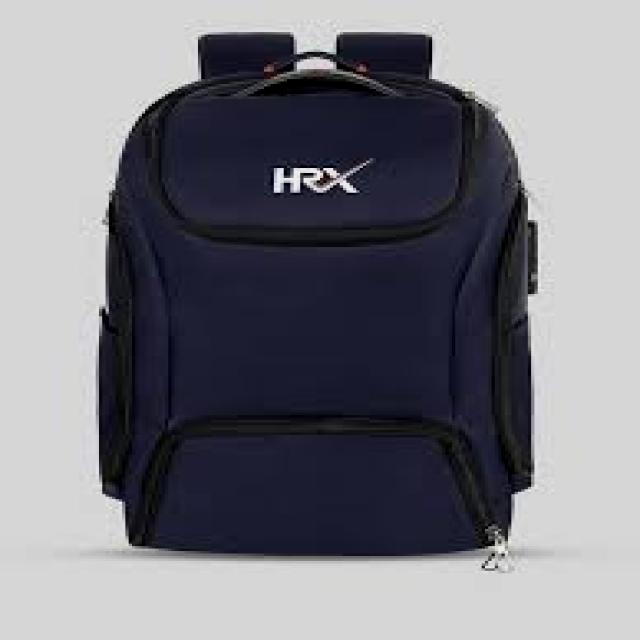backpack: (93, 31, 539, 565)
